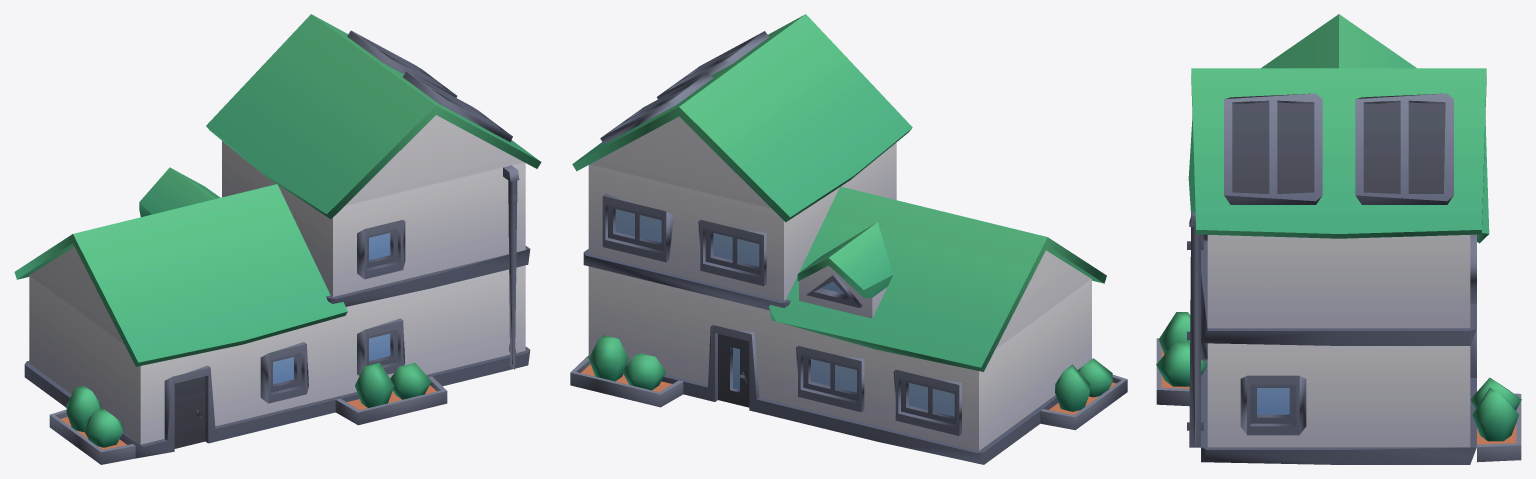
File: 055_city-kit-suburban_building-type-b_card.glb
3 views of the same model, side by side, from view 1: azimuth 30°, elevation 25°; view 2: azimuth 150°, elevation 25°; view 3: azimuth 270°, elevation 25° (orthographic). The views are drawn at different scales.
Visible parts, largest first — view 1: building-type-b; view 2: building-type-b; view 3: building-type-b.
Boxes of the visible parts, x1=… form: building-type-b: x1=14, y1=14, x2=541, y2=464; building-type-b: x1=570, y1=14, x2=1127, y2=464; building-type-b: x1=1156, y1=14, x2=1521, y2=464.
Size of the model in its own units: 1.82 by 1.14 by 1.11.
Materials: 1 (1 with a texture image).
